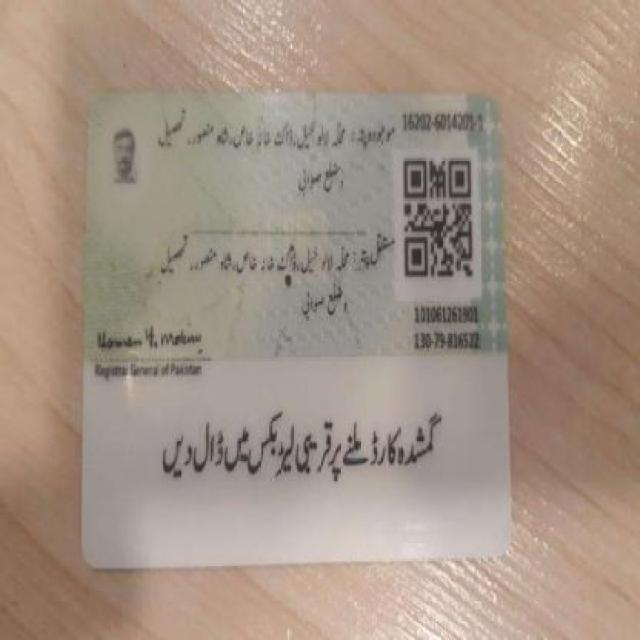Back: (80, 84, 512, 562)
